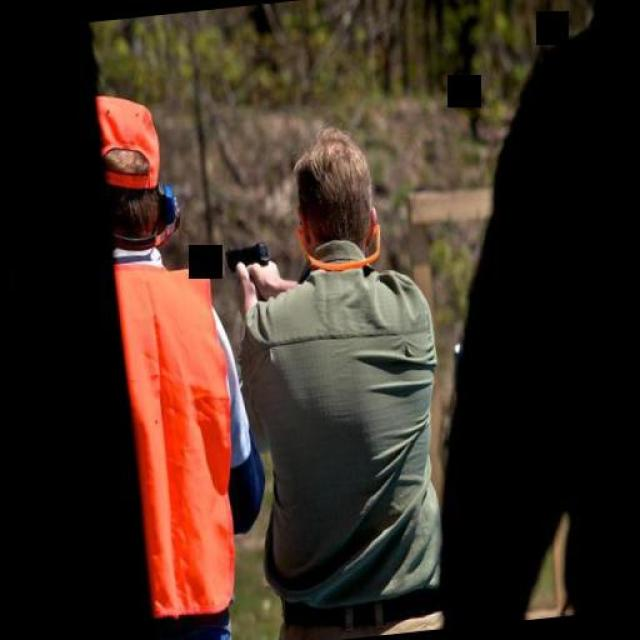gun: (222, 237, 272, 285)
